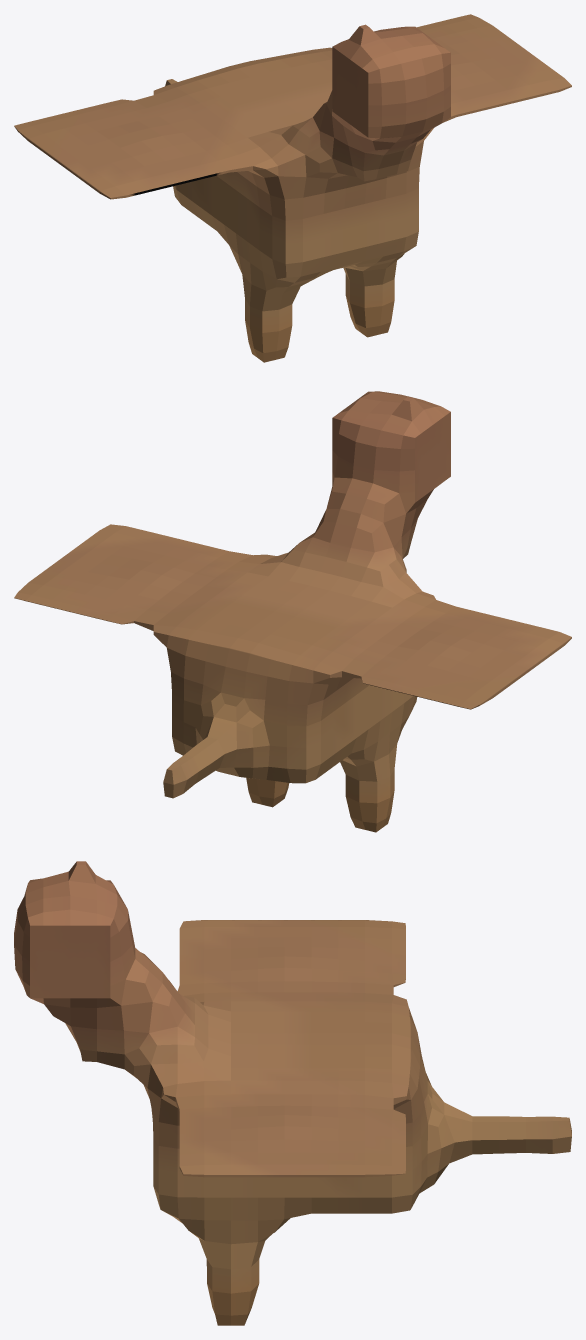
File: darkDragon.glb
3 renders of one model, top to bottom at view 1: azimuth 30°, elevation 25°; view 2: azimuth 150°, elevation 25°; view 3: azimuth 270°, elevation 25°, orthographic. The views are drawn at different scales.
Visible parts, largest first — view 1: geometry_0; view 2: geometry_0; view 3: geometry_0.
Part boxes in pixels (bbox=[...]): geometry_0: bbox=[14, 14, 571, 362]; geometry_0: bbox=[14, 391, 571, 832]; geometry_0: bbox=[14, 861, 571, 1325].
Bounding box in the file's own units: 1.25 × 0.9519 × 1.16.
1 material, 1 textured.
